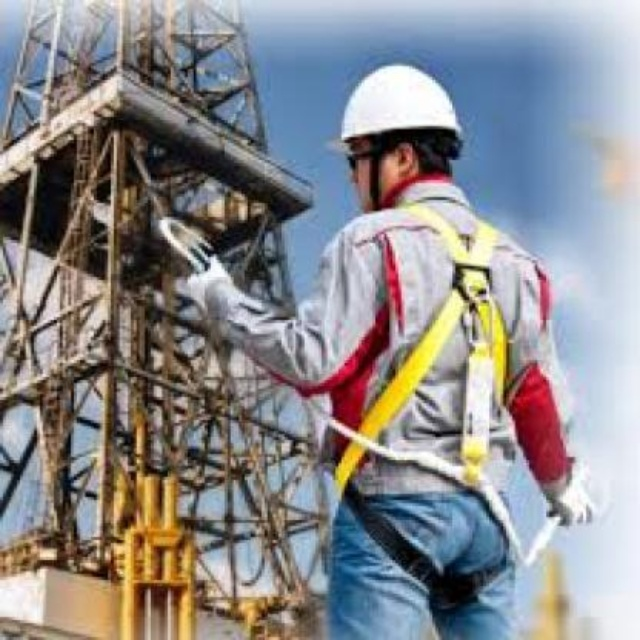Arnes_seguridad: (319, 206, 515, 572)
